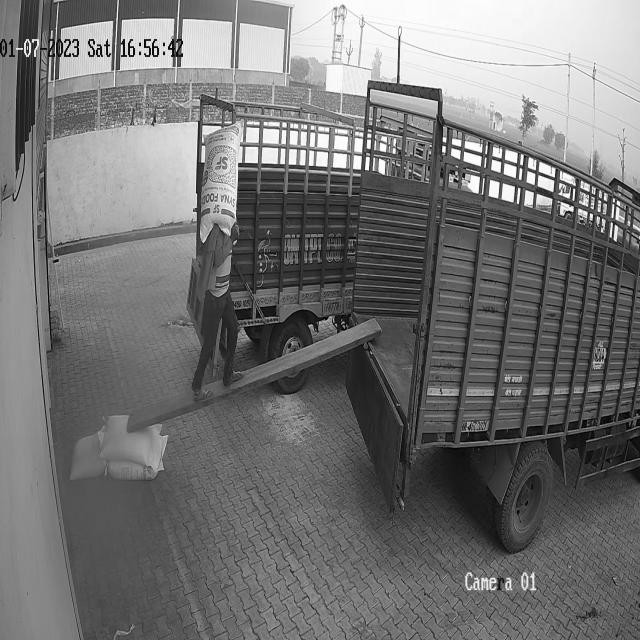sack: (199, 123, 241, 242), (100, 413, 162, 466), (104, 432, 166, 482), (68, 430, 106, 481)
